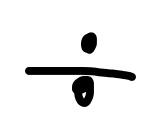div: (25, 32, 136, 106)
